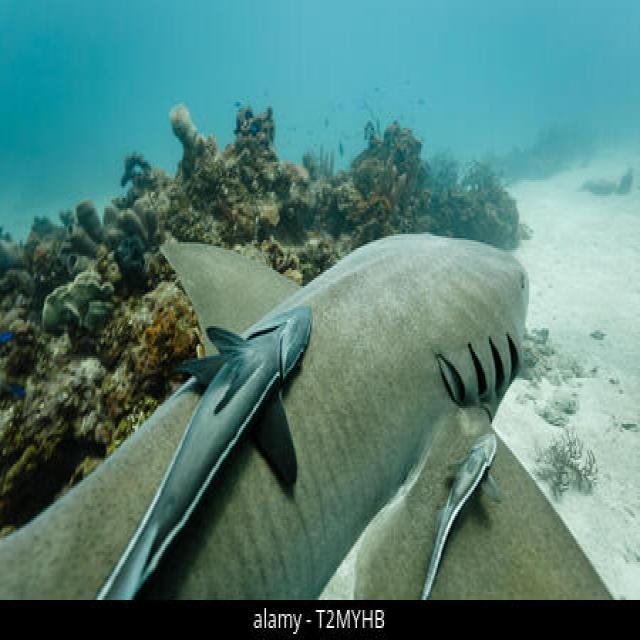Shark: (0, 192, 636, 596)
